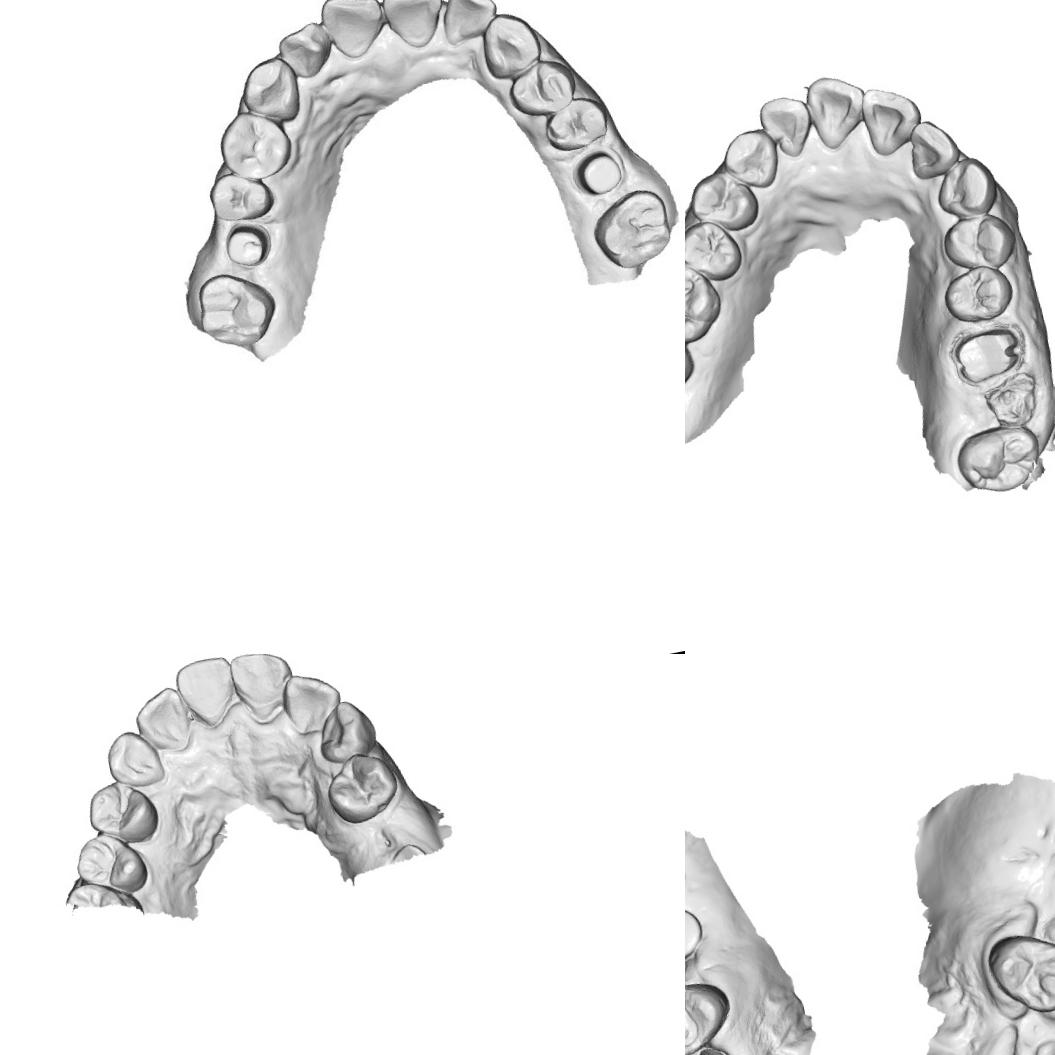abutment: (572, 147, 628, 203), (215, 222, 270, 272)
canine: (474, 3, 545, 84), (236, 55, 306, 130), (310, 694, 380, 765), (100, 724, 170, 794), (929, 151, 1000, 220), (720, 124, 782, 195)
crown: (948, 322, 1025, 387)
implant: (685, 904, 705, 966)
incisor: (168, 654, 239, 727), (129, 682, 199, 756), (857, 79, 925, 154), (269, 15, 336, 87), (803, 70, 869, 142), (900, 112, 966, 184), (278, 667, 344, 736), (223, 654, 296, 715), (756, 92, 817, 164), (318, 0, 389, 60), (433, 0, 500, 51), (381, 0, 444, 52)
molar: (182, 260, 284, 358), (583, 182, 677, 276), (952, 420, 1044, 498), (685, 261, 716, 343)
premolar: (981, 922, 1055, 1022), (320, 748, 404, 828), (215, 107, 300, 184), (72, 824, 154, 898), (80, 774, 162, 846), (537, 88, 617, 160), (938, 209, 1018, 276), (204, 162, 280, 230), (939, 259, 1014, 327), (688, 167, 761, 236), (685, 213, 744, 287), (685, 974, 736, 1055), (507, 61, 578, 117)
